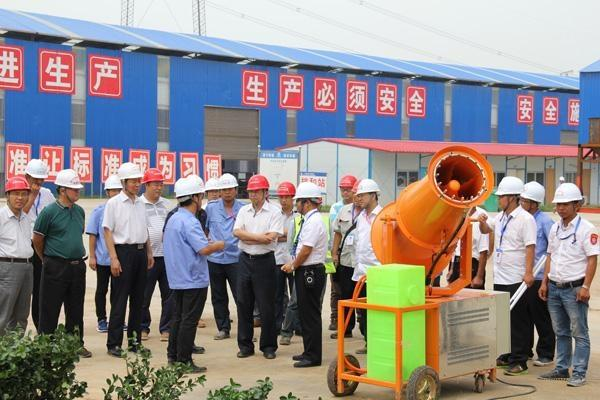Helmet: (552, 182, 586, 221), (246, 173, 269, 205)
